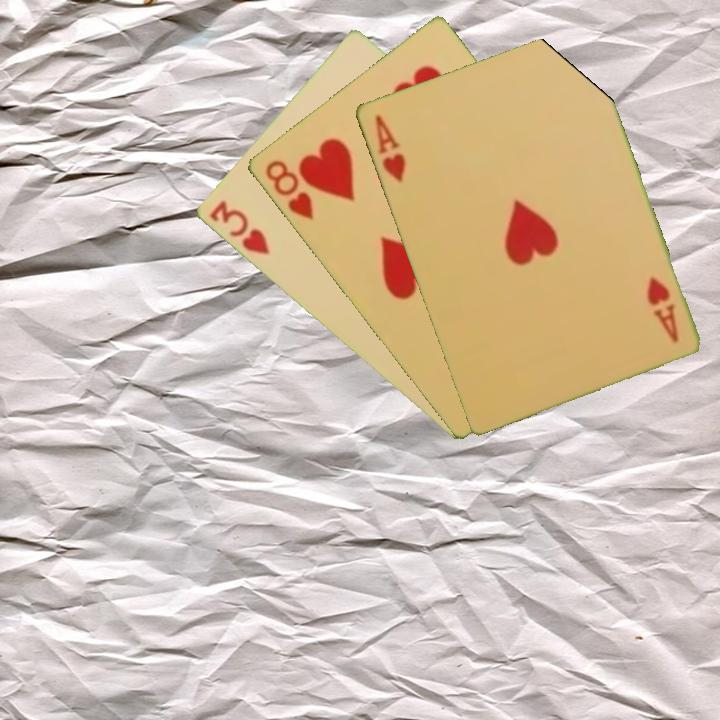3h: (205, 196, 273, 258)
8h: (261, 156, 316, 223)
Ah: (643, 272, 681, 345), (371, 111, 408, 185)
